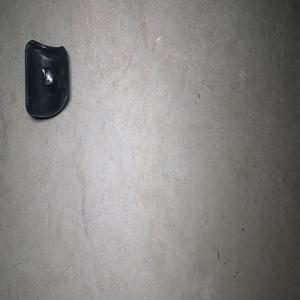LuggagePart: (24, 38, 69, 120)
